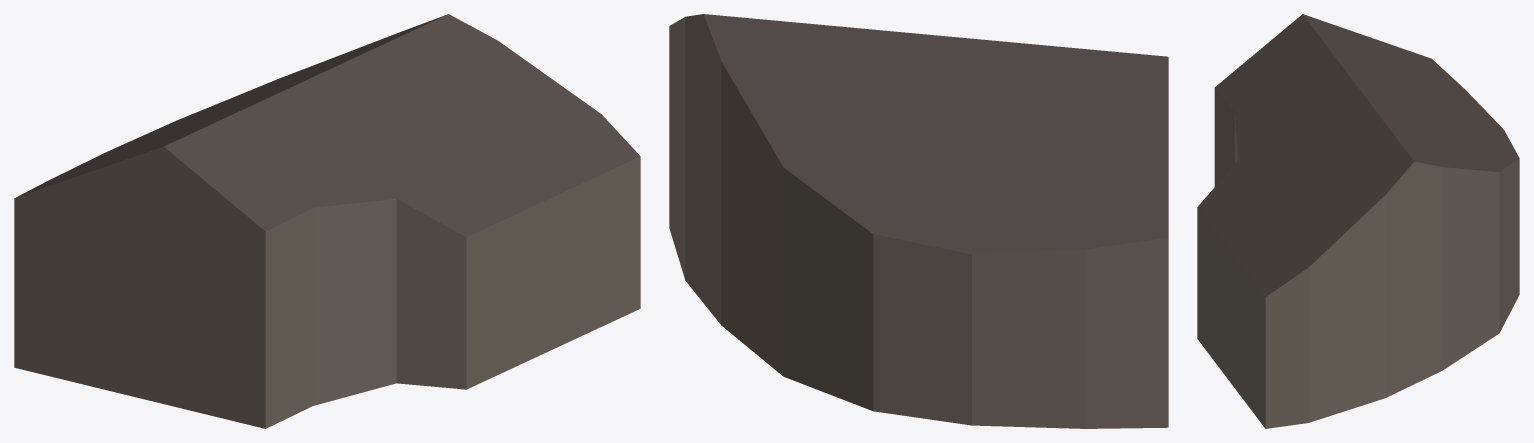
3 views of the same model, side by side, from view 1: azimuth 30°, elevation 25°; view 2: azimuth 150°, elevation 25°; view 3: azimuth 270°, elevation 25° (orthographic). The views are drawn at different scales.
Parts seen in each view (by area): view 1: HP-w859088517; view 2: HP-w859088517; view 3: HP-w859088517.
Boxes of the visible parts, left/top/right/bottom form: HP-w859088517: left=14, top=14, right=640, bottom=428; HP-w859088517: left=669, top=14, right=1168, bottom=428; HP-w859088517: left=1197, top=14, right=1519, bottom=428.
Bounding box in the file's own units: 21.86 × 10.15 × 13.3.
